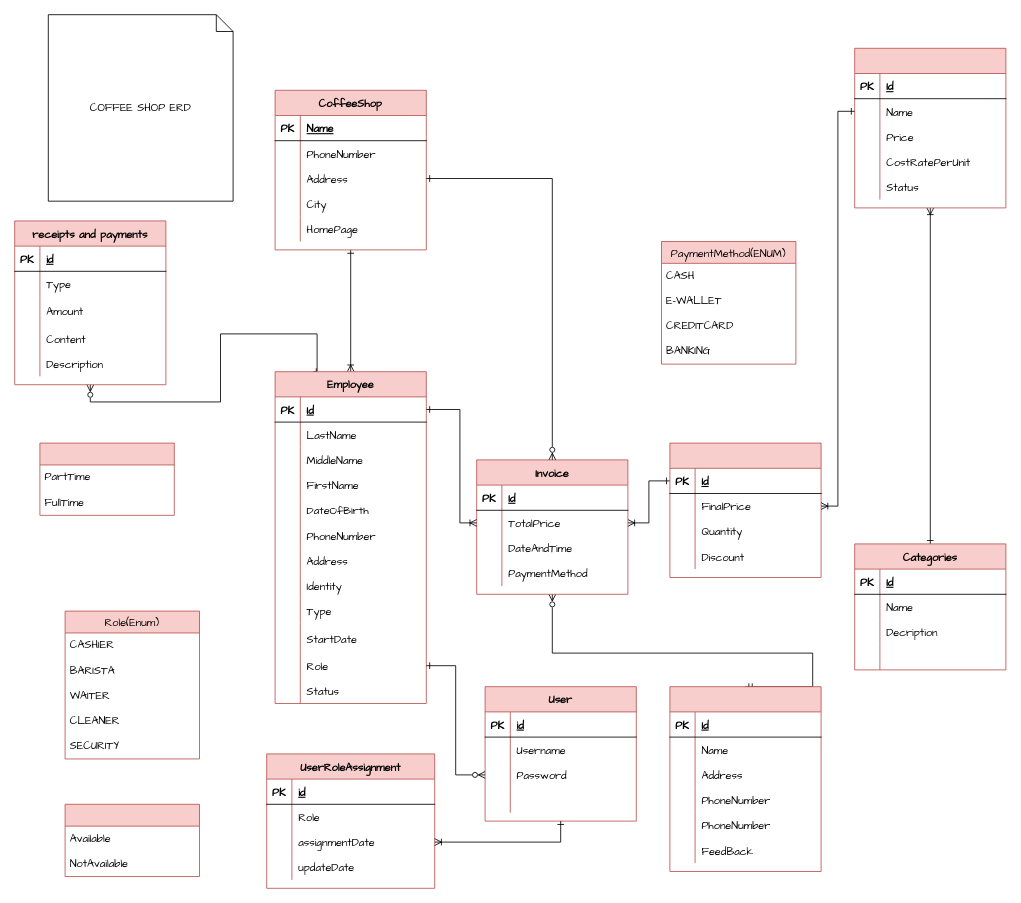
Image size: 1021x903. Some labels were removed from this diagram. Here are the shapes that lost their labels. From the top down, the box of each, then its label:
(854, 47, 1006, 208): Item
(39, 442, 174, 515): EmployeeType(Enum)
(669, 442, 821, 578): InvoiceDetail
(669, 686, 821, 872): Customer
(64, 803, 200, 877): Status(ENUM)
